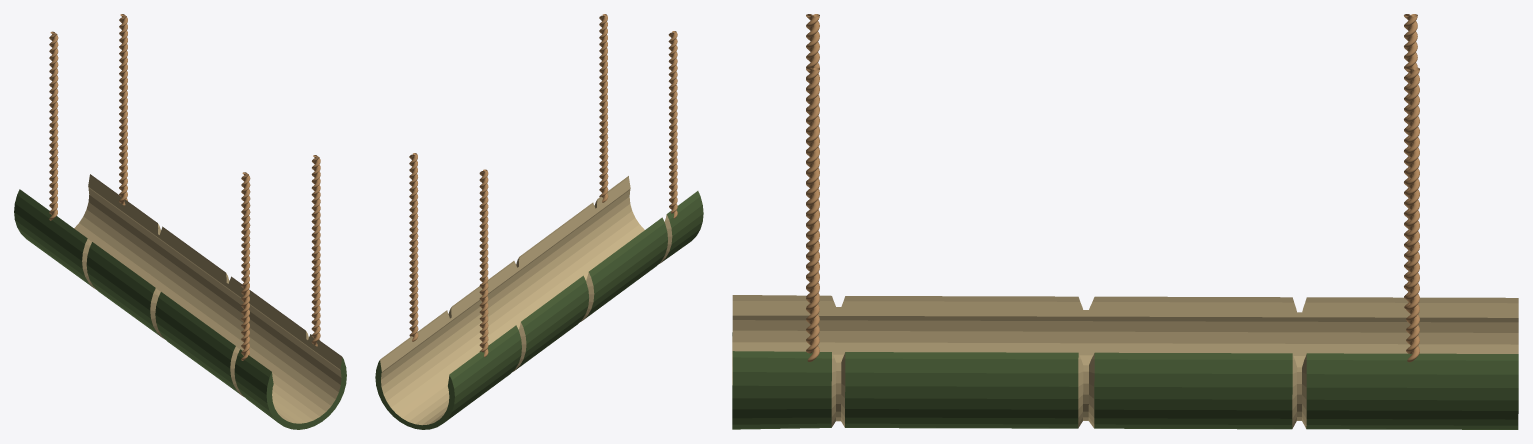
Rendered from récolte sève 3.fbx.
3 renders of one model, left to right at view 1: azimuth 30°, elevation 25°; view 2: azimuth 150°, elevation 25°; view 3: azimuth 270°, elevation 25°, orthographic. The views are drawn at different scales.
Visible parts, largest first — view 1: Cylindre.002, Cercle.002, Cercle, Cercle.003, Cercle.001; view 2: Cylindre.002, Cercle, Cercle.003, Cercle.002, Cercle.001; view 3: Cylindre.002, Cercle.003, Cercle.002, Cercle, Cercle.001.
Boxes of the visible parts, left/top/right/bottom form: Cylindre.002: left=14, top=174, right=346, bottom=429; Cercle.002: left=311, top=155, right=320, bottom=346; Cercle: left=49, top=31, right=58, bottom=220; Cercle.003: left=119, top=14, right=127, bottom=205; Cercle.001: left=241, top=172, right=250, bottom=360; Cylindre.002: left=375, top=176, right=703, bottom=429; Cercle: left=479, top=169, right=488, bottom=357; Cercle.003: left=409, top=153, right=418, bottom=341; Cercle.002: left=599, top=14, right=608, bottom=202; Cercle.001: left=668, top=31, right=677, bottom=218; Cylindre.002: left=732, top=295, right=1518, bottom=429; Cercle.003: left=1406, top=67, right=1419, bottom=362; Cercle.002: left=806, top=67, right=819, bottom=361; Cercle: left=1404, top=14, right=1417, bottom=308; Cercle.001: left=806, top=14, right=819, bottom=307.
Bounding box in the file's own units: 1119 × 3241 × 6063.
